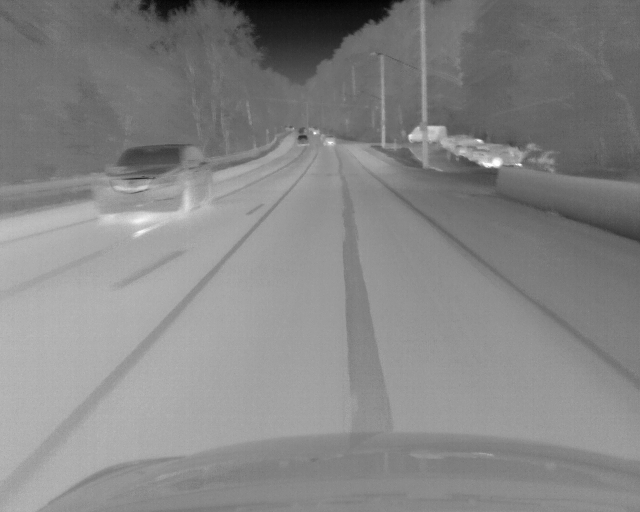car: (92, 143, 214, 218), (480, 145, 520, 168), (458, 141, 498, 162), (407, 124, 448, 142), (442, 134, 474, 153), (320, 134, 337, 149), (297, 135, 308, 146)
